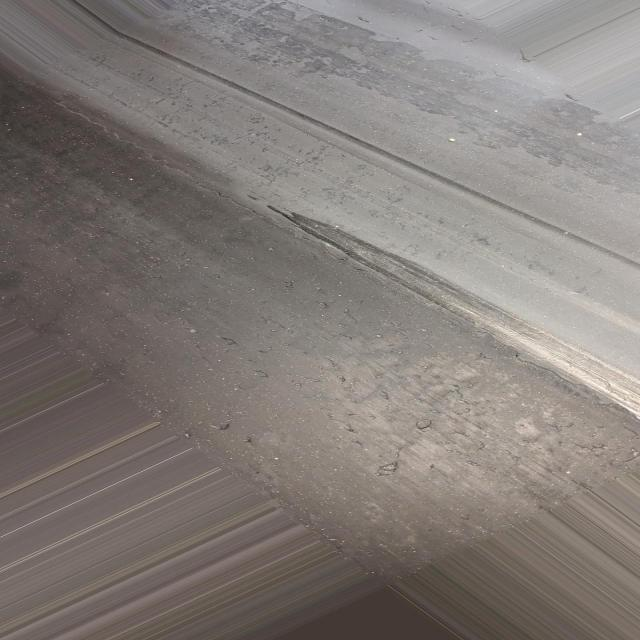impact damage: (267, 212, 640, 428)
